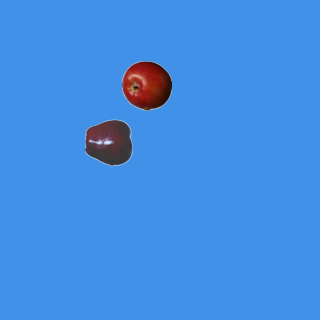Apple Braeburn: (121, 60, 171, 110)
Apple Red Delicious: (84, 117, 134, 167)
